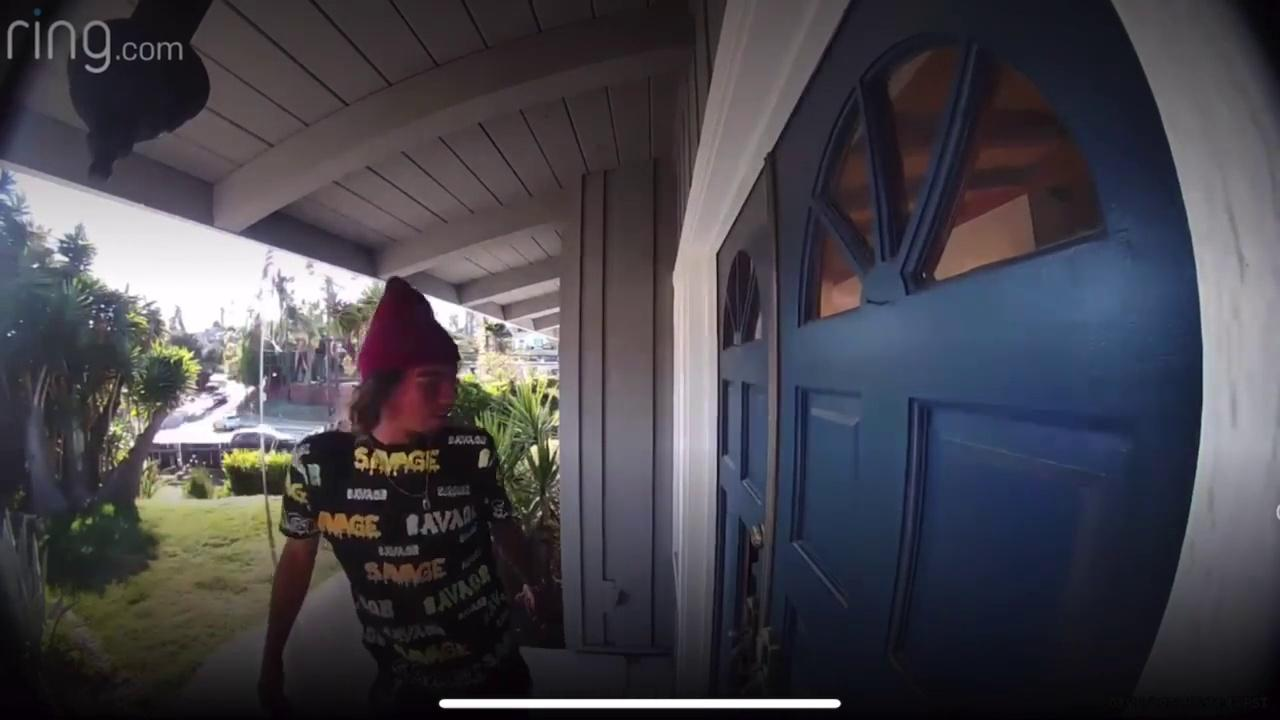suspicion: (290, 192, 538, 712)
